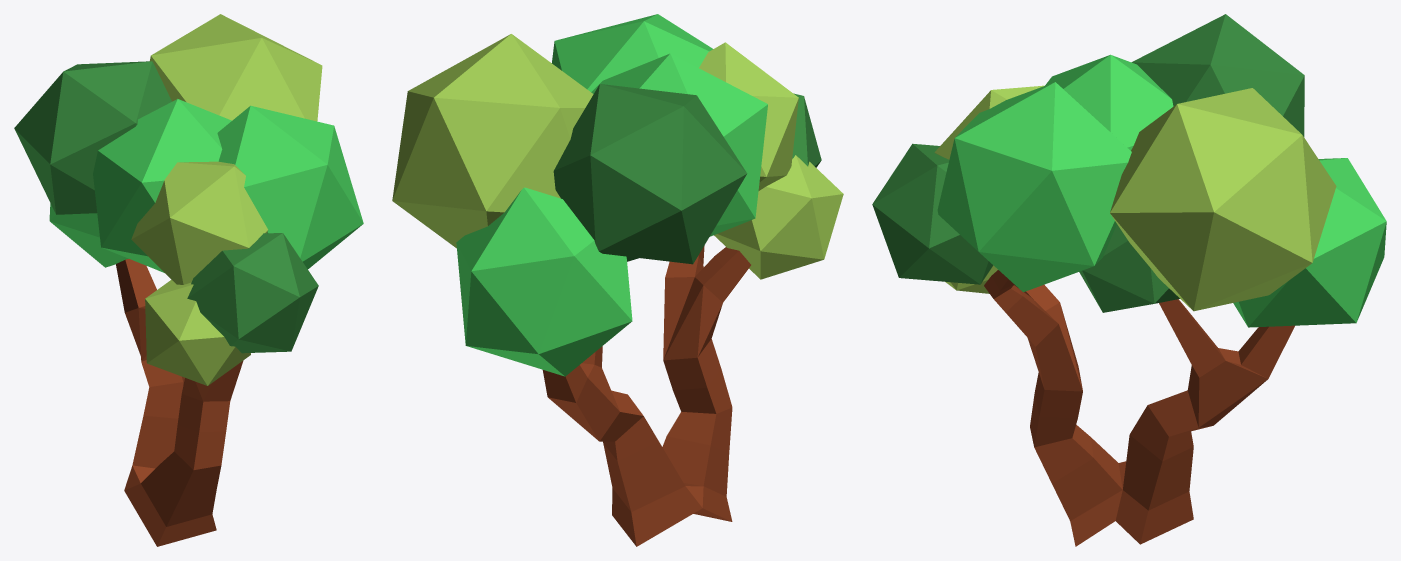
The model's file is RoundLeaveTree1.fbx.
3 views of the same model, side by side, from view 1: azimuth 30°, elevation 25°; view 2: azimuth 150°, elevation 25°; view 3: azimuth 270°, elevation 25° (orthographic). The views are drawn at different scales.
Visible parts, largest first — view 1: Stam, Icosphere.002, Icosphere.005, Icosphere.007, Icosphere.004, Icosphere.008, Icosphere.001, Icosphere, Icosphere.006; view 2: Stam, Icosphere.007, Icosphere.005, Icosphere.006, Icosphere, Icosphere.004, Icosphere.002, Icosphere.001, Icosphere.008; view 3: Icosphere.007, Stam, Icosphere.002, Icosphere.006, Icosphere.005, Icosphere.008, Icosphere.004, Icosphere.003, Icosphere.001.
Part boxes in pixels (x1,y1,x2,y2): Stam: (116,259,243,546); Icosphere.002: (217,105,363,269); Icosphere.005: (14,61,171,214); Icosphere.007: (150,14,322,121); Icosphere.004: (93,99,231,272); Icosphere.008: (187,233,318,353); Icosphere.001: (131,161,267,284); Icosphere: (145,280,250,385); Icosphere.006: (49,203,128,267); Stam: (542,245,750,546); Icosphere.007: (392,34,593,248); Icosphere.005: (553,84,747,264); Icosphere.006: (456,187,632,376); Icosphere: (714,155,843,279); Icosphere.004: (591,53,767,236); Icosphere.002: (552,14,712,91); Icosphere.001: (699,42,798,190); Icosphere.008: (792,93,821,167); Icosphere.007: (1110,88,1336,311); Stam: (984,270,1294,546); Icosphere.002: (937,82,1131,292); Icosphere.006: (1233,158,1386,327); Icosphere.005: (1131,14,1304,136); Icosphere.008: (872,143,993,284); Icosphere.004: (1045,54,1173,150); Icosphere.003: (1079,224,1179,312); Icosphere.001: (934,85,1044,159).
Bounding box in the file's own units: 489 × 707 × 669.
